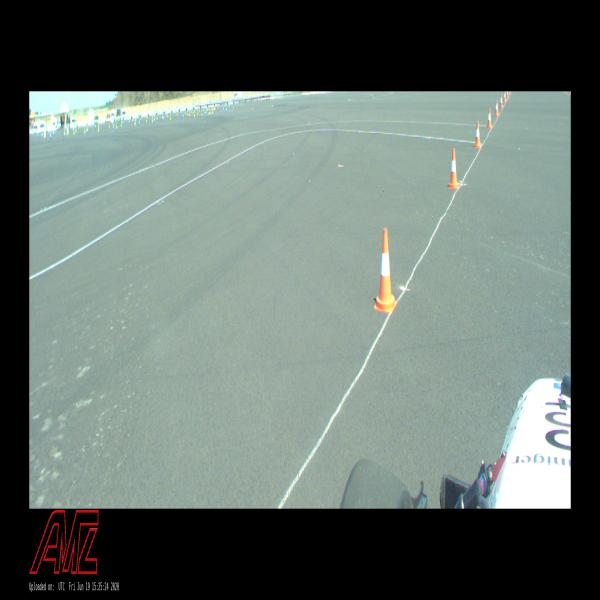blue_cone: (63, 130, 66, 137), (41, 132, 43, 138), (53, 130, 55, 136), (122, 118, 124, 124), (50, 132, 51, 138), (113, 123, 114, 129), (95, 124, 96, 129)
orange_cone: (374, 228, 397, 312), (449, 148, 458, 188), (475, 121, 481, 148), (487, 108, 492, 127), (495, 100, 499, 116), (500, 94, 503, 108), (503, 92, 506, 101)
yellow_cone: (97, 125, 100, 132), (120, 120, 123, 127), (84, 127, 86, 133), (73, 128, 75, 134), (75, 127, 77, 133), (108, 122, 110, 128), (116, 122, 117, 128)
